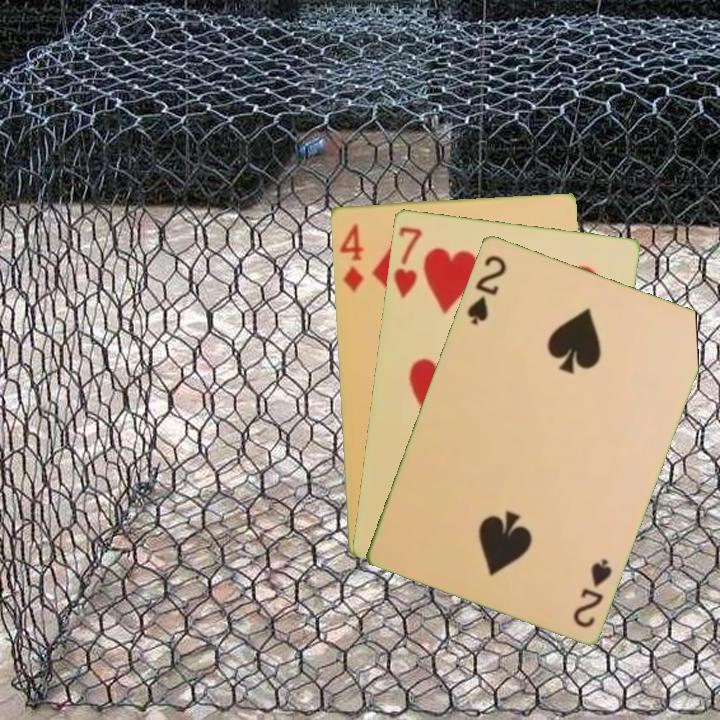2s: (463, 251, 509, 328), (569, 554, 615, 630)
4d: (336, 220, 367, 295)
7h: (389, 223, 424, 301)
